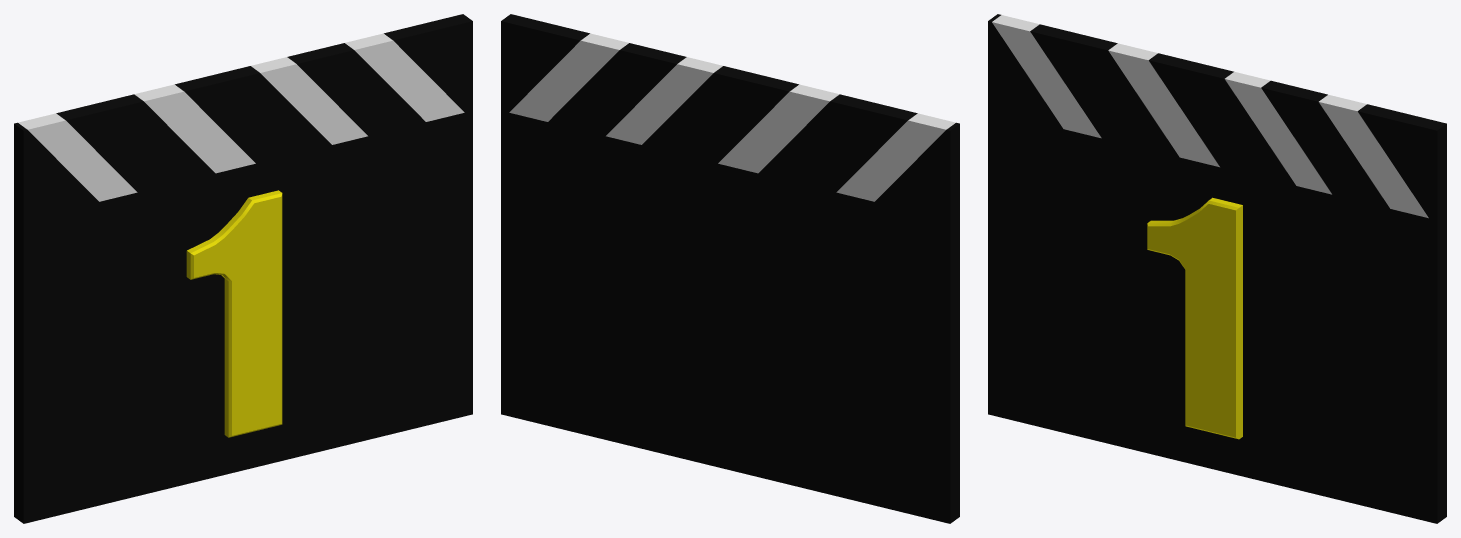
File: WW_CinemaSign_Env_01.fbx
3 views of the same model, side by side, from view 1: azimuth 30°, elevation 25°; view 2: azimuth 150°, elevation 25°; view 3: azimuth 330°, elevation 25° (orthographic).
Parts seen in each view (by area): view 1: SignBase_GEO, CinemaSignBottom_GEO, ONE_GEO; view 2: SignBase_GEO, CinemaSignBottom_GEO; view 3: SignBase_GEO, CinemaSignBottom_GEO, ONE_GEO.
Part boxes in pixels (bbox=[...]): SignBase_GEO: bbox=[14, 111, 472, 523]; CinemaSignBottom_GEO: bbox=[14, 14, 472, 219]; ONE_GEO: bbox=[186, 190, 282, 437]; SignBase_GEO: bbox=[501, 111, 959, 523]; CinemaSignBottom_GEO: bbox=[501, 14, 959, 219]; SignBase_GEO: bbox=[988, 111, 1446, 523]; CinemaSignBottom_GEO: bbox=[988, 14, 1446, 219]; ONE_GEO: bbox=[1147, 197, 1242, 439].
Size of the model in its own units: 306 by 256 by 17.41.
